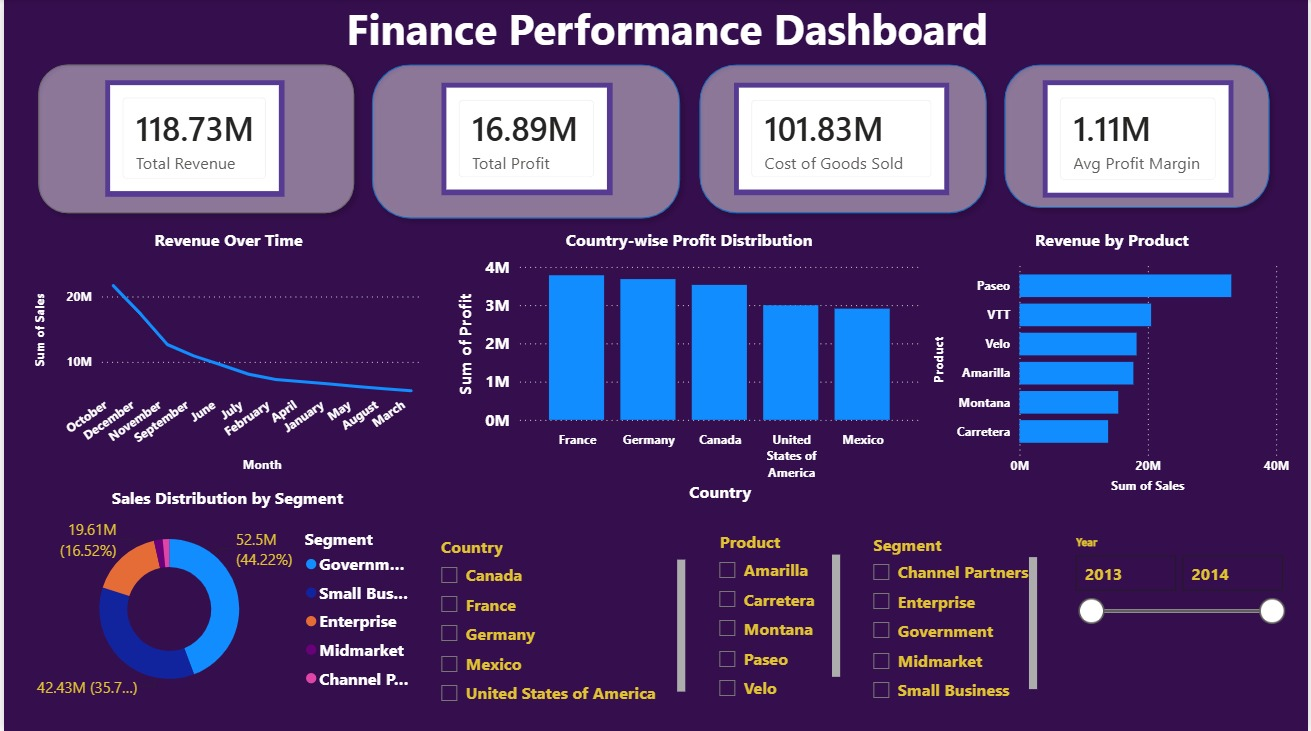

The dashboard page shown, as its layout file describes it:
{"tool":"powerbi","page":{"name":"Page 1","canvas":[1280,720],"ordinal":0},"visuals":[{"type":"shape","box":[24.4,55.1,328.2,164.1],"z":0},{"type":"cardVisual","fields":{"Data":["Sum(financials. Sales)"]},"box":[100,79.5,175.6,114.1],"z":1000},{"type":"shape","box":[352.6,55.1,320.5,169.2],"z":2000},{"type":"cardVisual","fields":{"Data":["Sum(financials.Profit)"]},"box":[429.5,82.1,167.9,110.3],"z":3000},{"type":"shape","box":[673.1,55.1,300,164.1],"z":4000},{"type":"cardVisual","fields":{"Data":["Sum(financials.COGS)"]},"box":[716.7,82.1,211.5,110.3],"z":5000},{"type":"lineChart","title":"Revenue Over Time","fields":{"Category":["financials.Month Name"],"Y":["Sum(financials. Sales)"]},"box":[25.6,224.4,389.7,244.9],"z":6000},{"type":"clusteredColumnChart","title":"Country-wise Profit Distribution","fields":{"Category":["financials.Country"],"Y":["Sum(financials.Profit)"]},"box":[441,224.4,464.1,274.4],"z":7000},{"type":"clusteredBarChart","title":"Revenue by Product","fields":{"Category":["financials.Product"],"Y":["Sum(financials. Sales)"]},"box":[907.7,224.4,359,265.4],"z":8000},{"type":"donutChart","title":"Sales Distribution by Segment","fields":{"Category":["financials.Segment"],"Y":["Sum(financials. Sales)"]},"box":[24.4,478.2,389.7,219.2],"z":9000},{"type":"slicer","fields":{"Values":["financials.Country"]},"box":[415.4,521.8,257.7,175.6],"z":10000},{"type":"slicer","fields":{"Values":["financials.Product"]},"box":[689.7,516.7,135.9,178.2],"z":11000},{"type":"slicer","fields":{"Values":["financials.Segment"]},"box":[841,519.2,178.2,175.6],"z":12000},{"type":"slicer","fields":{"Values":["financials.Year"]},"box":[1039.7,521.8,226.9,98.7],"z":13000},{"type":"shape","box":[973.1,55.1,278.2,159],"z":14000},{"type":"cardVisual","fields":{"Data":["Sum(financials.Profit Margin)"]},"box":[1019.2,79.5,187.2,115.4],"z":15000},{"type":"actionButton","title":"Finance Performance Dashboard","box":[188.5,0,924.4,55.1],"z":16000}]}

Visuals, with their boxes in screenshot pixels (x1, y1, x2, y2), scaled from the page's 1280x720 canvas onto the 1311x731 screenshot:
shape: select_region(25, 56, 361, 223)
cardVisual - Sum(financials. Sales): select_region(102, 81, 282, 197)
shape: select_region(361, 56, 689, 228)
cardVisual - Sum(financials.Profit): select_region(440, 83, 612, 195)
shape: select_region(689, 56, 997, 223)
cardVisual - Sum(financials.COGS): select_region(734, 83, 951, 195)
"Revenue Over Time" lineChart: select_region(26, 228, 425, 476)
"Country-wise Profit Distribution" clusteredColumnChart: select_region(452, 228, 927, 506)
"Revenue by Product" clusteredBarChart: select_region(930, 228, 1297, 497)
"Sales Distribution by Segment" donutChart: select_region(25, 486, 424, 708)
slicer - financials.Country: select_region(425, 530, 689, 708)
slicer - financials.Product: select_region(706, 525, 846, 706)
slicer - financials.Segment: select_region(861, 527, 1044, 705)
slicer - financials.Year: select_region(1065, 530, 1297, 630)
shape: select_region(997, 56, 1282, 217)
cardVisual - Sum(financials.Profit Margin): select_region(1044, 81, 1236, 198)
"Finance Performance Dashboard" actionButton: select_region(193, 0, 1140, 56)
